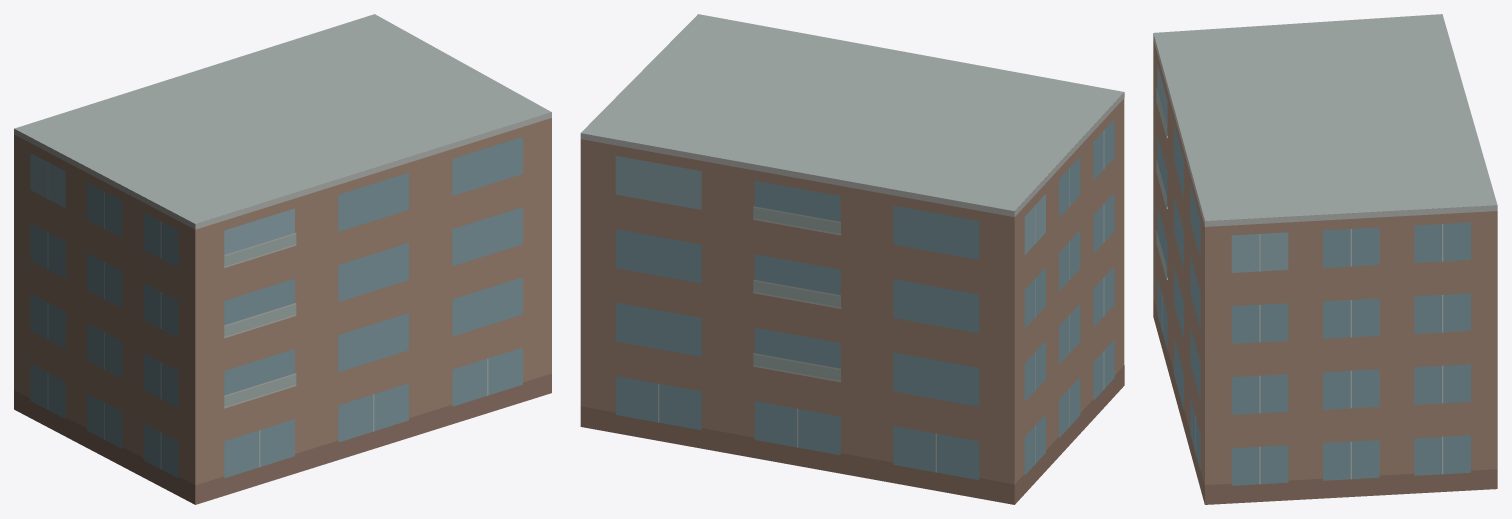
Rendered from survey-upis-33047521.glb.
3 renders of one model, left to right at view 1: azimuth 30°, elevation 25°; view 2: azimuth 150°, elevation 25°; view 3: azimuth 270°, elevation 25°, orthographic. The views are drawn at different scales.
Parts seen in each view (by area): view 1: survey-upis-33047521.tmp; view 2: survey-upis-33047521.tmp; view 3: survey-upis-33047521.tmp.
Part boxes in pixels (x1,y1,x2,y2): survey-upis-33047521.tmp: (14, 14, 551, 504); survey-upis-33047521.tmp: (580, 14, 1124, 504); survey-upis-33047521.tmp: (1153, 14, 1497, 504).
Size of the model in its own units: 18.72 by 11.95 by 13.15.
